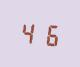four: (19, 18, 38, 46)
six: (39, 19, 58, 48)
